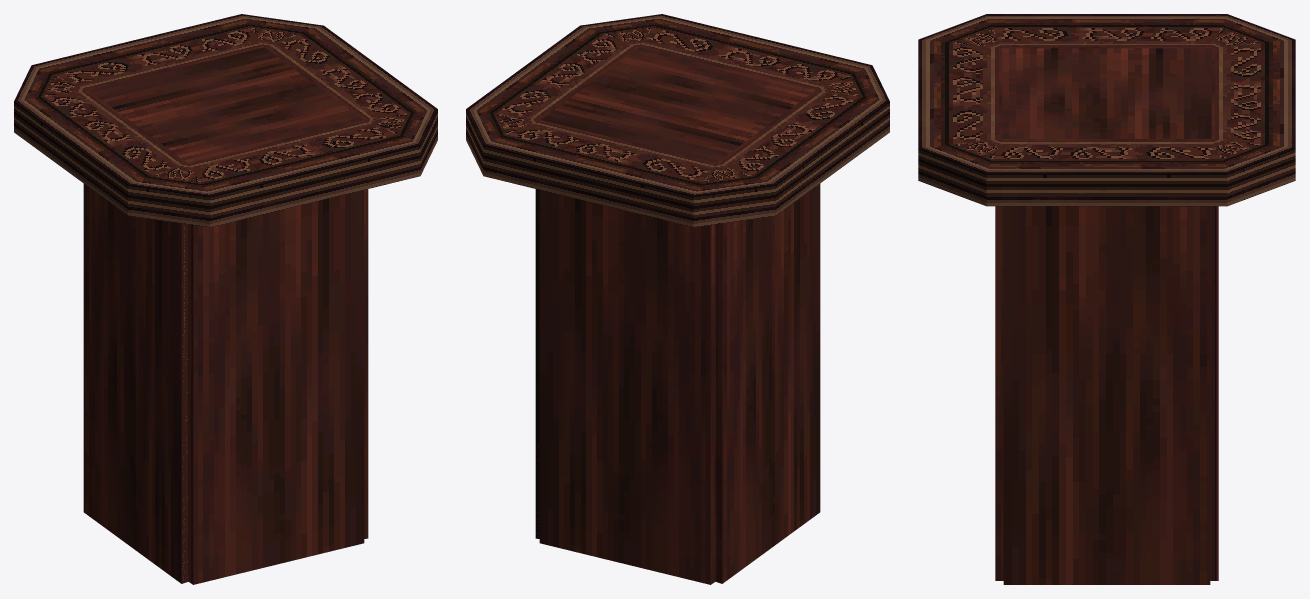
The model's file is octagon_02.fbx.
The picture shows the model from 3 angles, left to right: view 1: azimuth 30°, elevation 25°; view 2: azimuth 150°, elevation 25°; view 3: azimuth 270°, elevation 25°; orthographic projection. The views are drawn at different scales.
Visible parts, largest first — view 1: mesh_0; view 2: mesh_0; view 3: mesh_0.
Part boxes in pixels (x1,y1,x2,y2): mesh_0: [14, 14, 437, 584]; mesh_0: [466, 14, 889, 584]; mesh_0: [918, 14, 1295, 584].
Bounding box in the file's own units: 46.19 × 59.89 × 46.19.
1 material, 1 textured.
